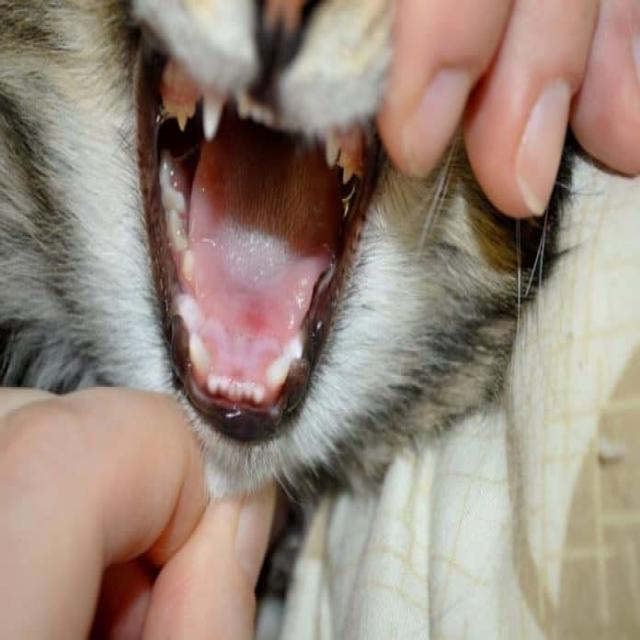cat-ulcer: (234, 284, 278, 354)
